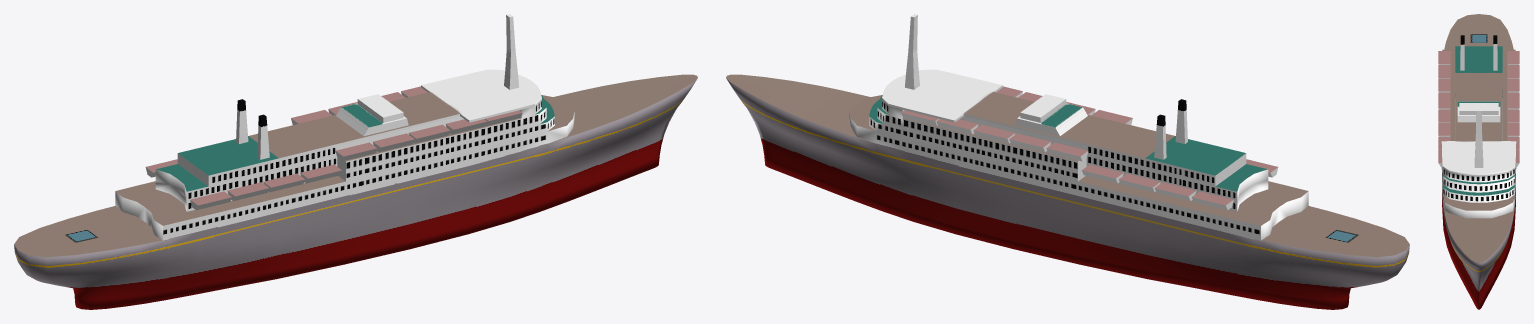
Rendered from ssrotterdam.fbx.
3 renders of one model, left to right at view 1: azimuth 30°, elevation 25°; view 2: azimuth 150°, elevation 25°; view 3: azimuth 270°, elevation 25°, orthographic. The views are drawn at different scales.
Parts seen in each view (by area): view 1: Cube.001; view 2: Cube.001; view 3: Cube.001.
Boxes of the visible parts, left/top/right/bottom form: Cube.001: left=14, top=14, right=697, bottom=309; Cube.001: left=726, top=14, right=1409, bottom=309; Cube.001: left=1438, top=14, right=1519, bottom=309.
Size of the model in its own units: 4.88 by 1.28 by 0.6551.
